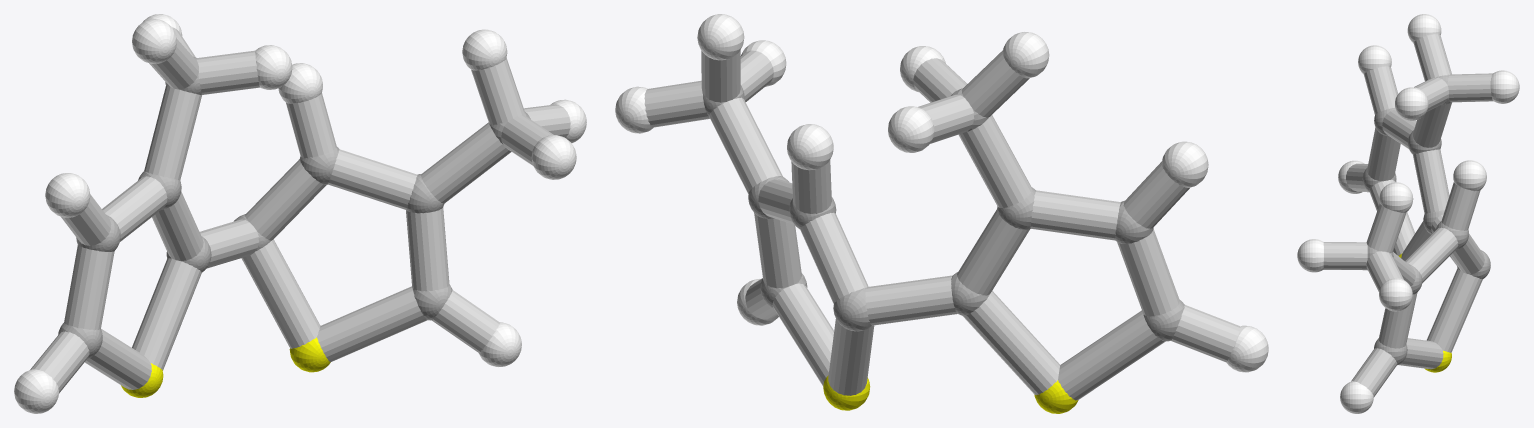
Rendered from Methylthiophene_Phi_60_Theta_180_Methylthiophene.glb.
3 renders of one model, left to right at view 1: azimuth 30°, elevation 25°; view 2: azimuth 150°, elevation 25°; view 3: azimuth 270°, elevation 25°, orthographic. The views are drawn at different scales.
Parts seen in each view (by area): view 1: grp7965, grp3621, grp1, grp7241; view 2: grp7965, grp3621, grp1, grp7241; view 3: grp7965, grp3621, grp1, grp7241.
Part boxes in pixels (bbox=[...]): grp7965: bbox=[30, 27, 570, 393]; grp3621: bbox=[14, 14, 586, 413]; grp1: bbox=[58, 56, 530, 358]; grp7241: bbox=[121, 337, 330, 397]; grp7965: bbox=[644, 50, 1240, 400]; grp3621: bbox=[615, 14, 1268, 372]; grp1: bbox=[702, 85, 1184, 341]; grp7241: bbox=[823, 375, 1078, 413]; grp7965: bbox=[1323, 34, 1493, 397]; grp3621: bbox=[1297, 14, 1519, 413]; grp1: bbox=[1362, 74, 1490, 365]; grp7241: bbox=[1399, 253, 1451, 372].
Bounding box in the file's own units: 9.12 × 5.79 × 3.95.
